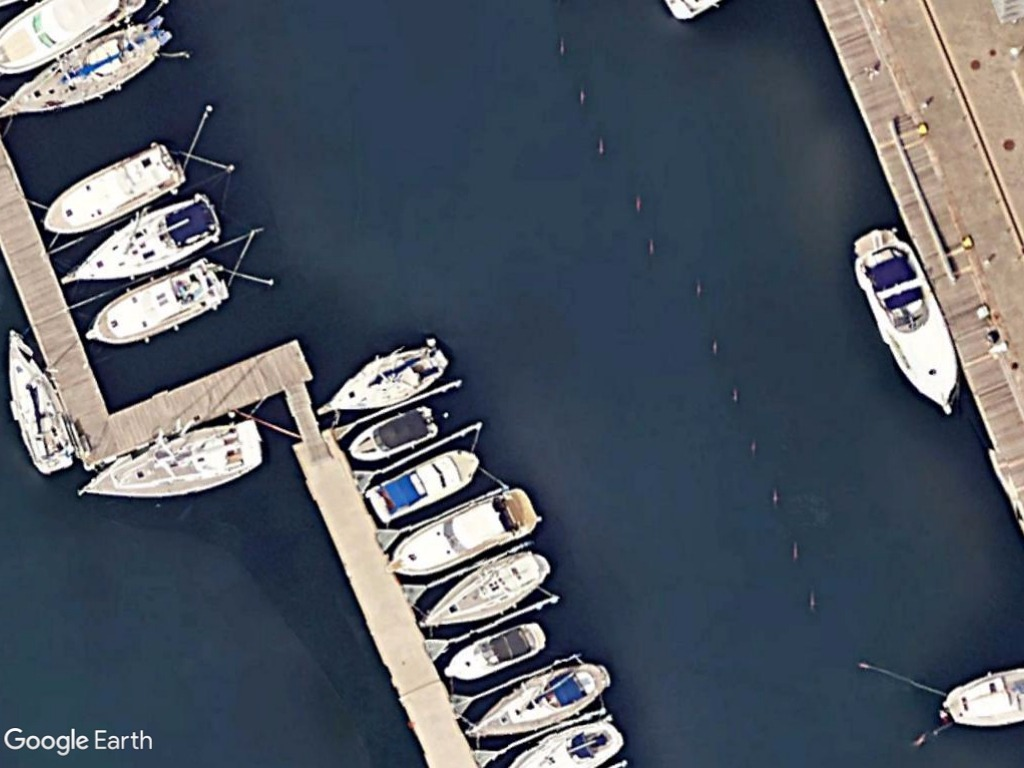boat: (842, 222, 965, 424), (0, 17, 176, 121), (76, 413, 266, 506), (60, 187, 228, 291), (34, 134, 188, 246), (385, 483, 544, 583), (83, 253, 234, 350), (463, 653, 617, 745), (314, 338, 450, 423), (417, 547, 553, 632), (8, 323, 81, 479), (361, 441, 481, 527), (440, 618, 551, 686), (349, 403, 440, 465)
